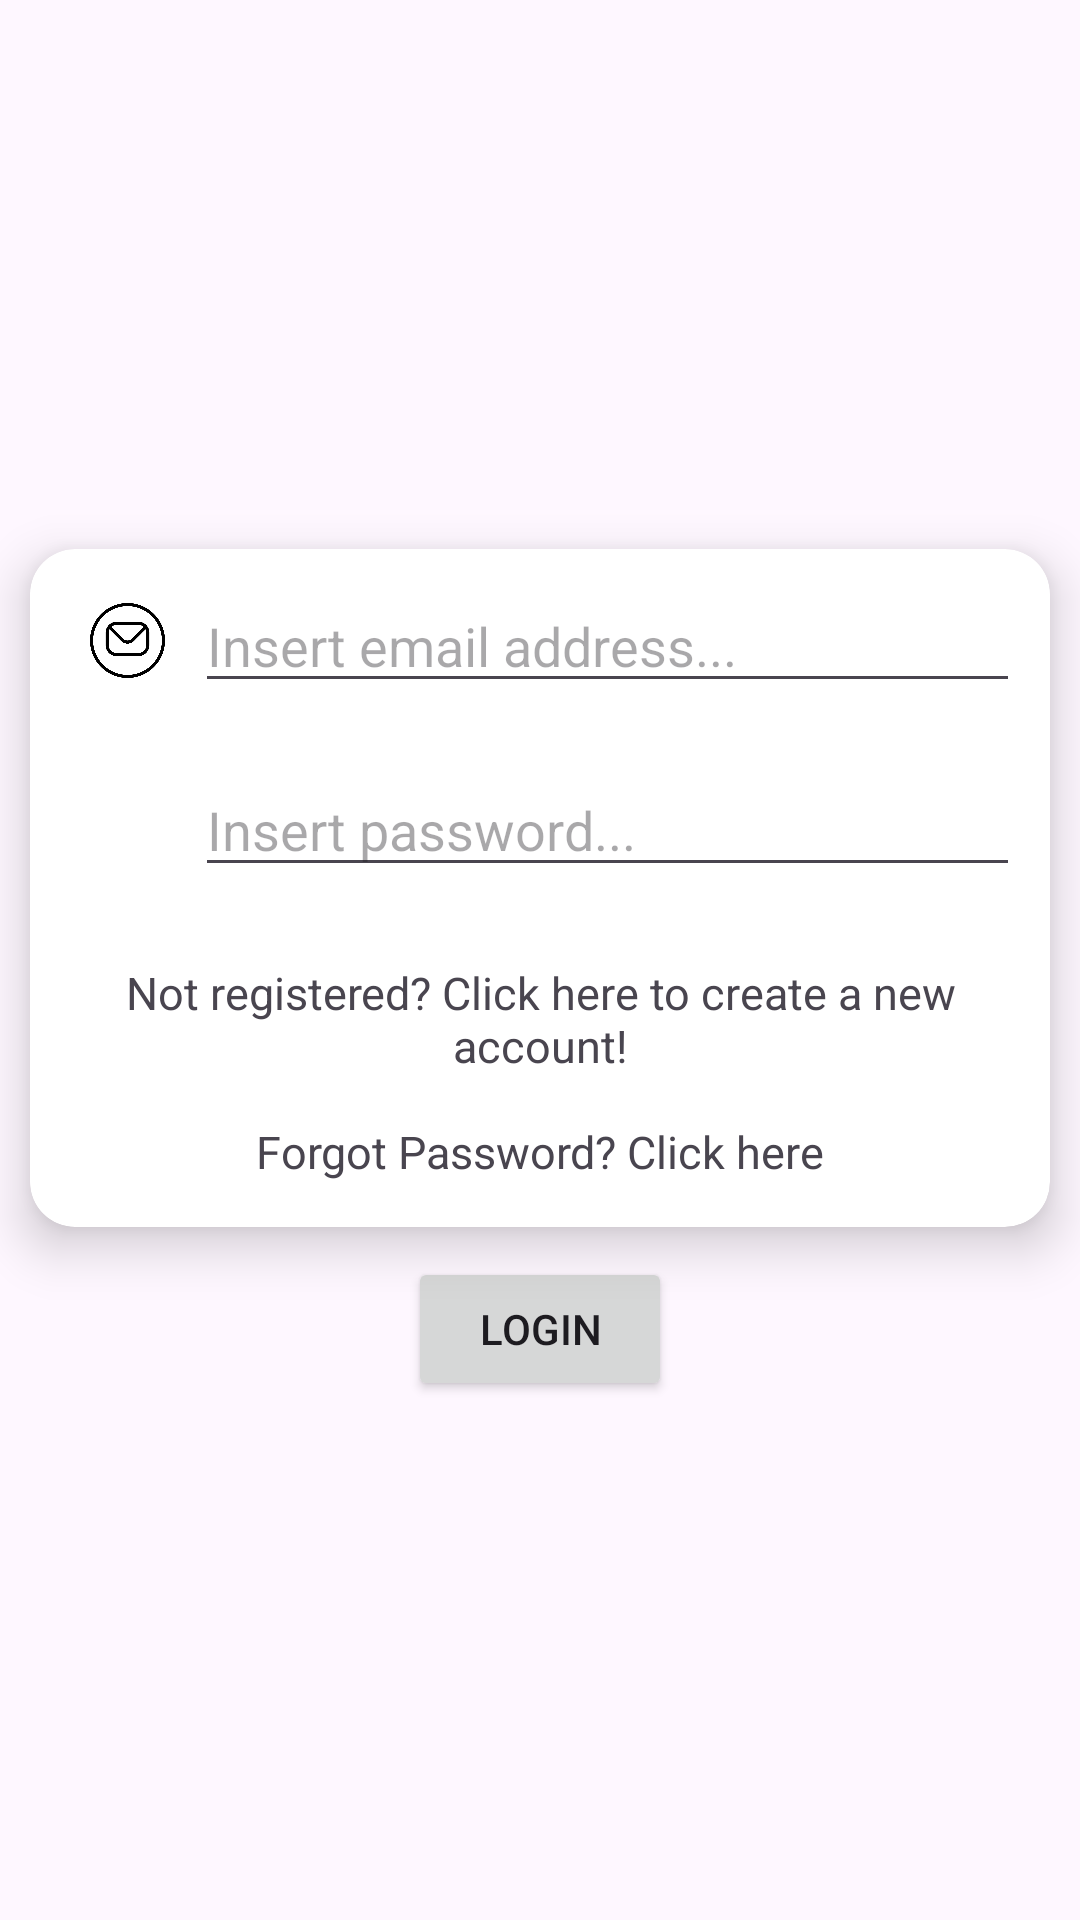

Locate icon controls on the screen. Image size 1080x1920, boxes as (x1, y1, x2, y2).
circle envelope: (90, 603, 165, 678)
